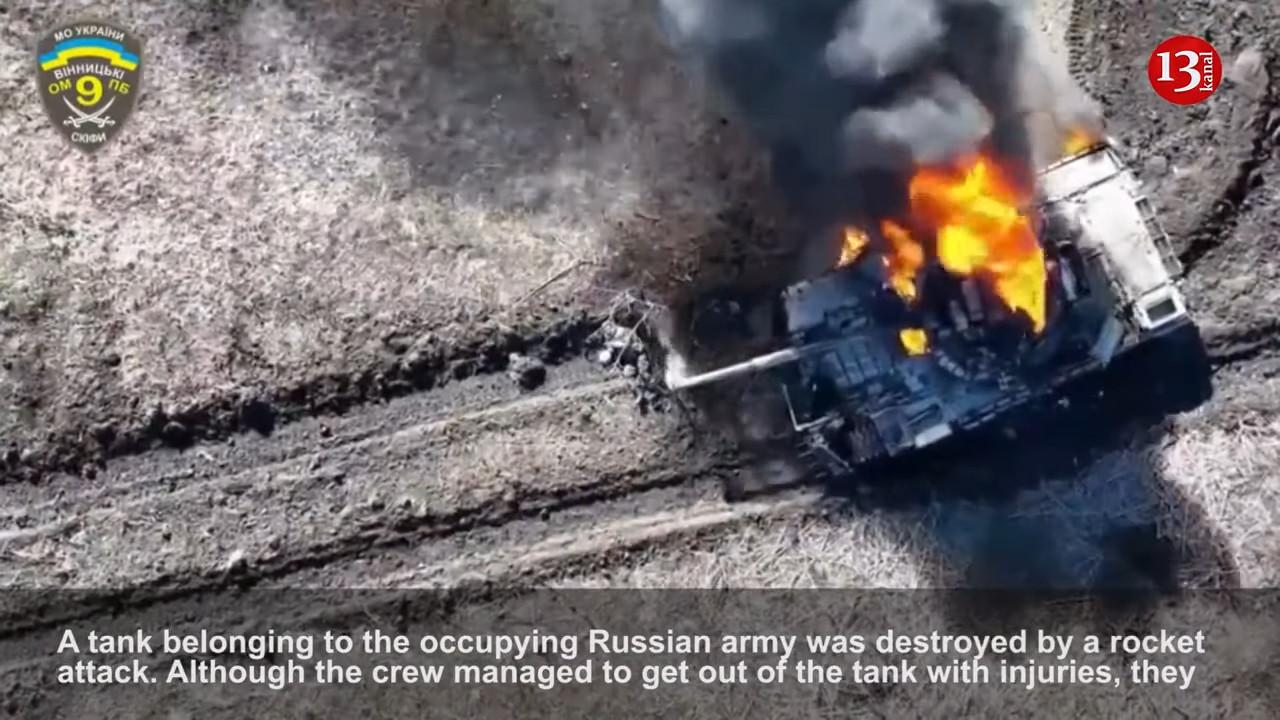tank: (667, 141, 1197, 483)
